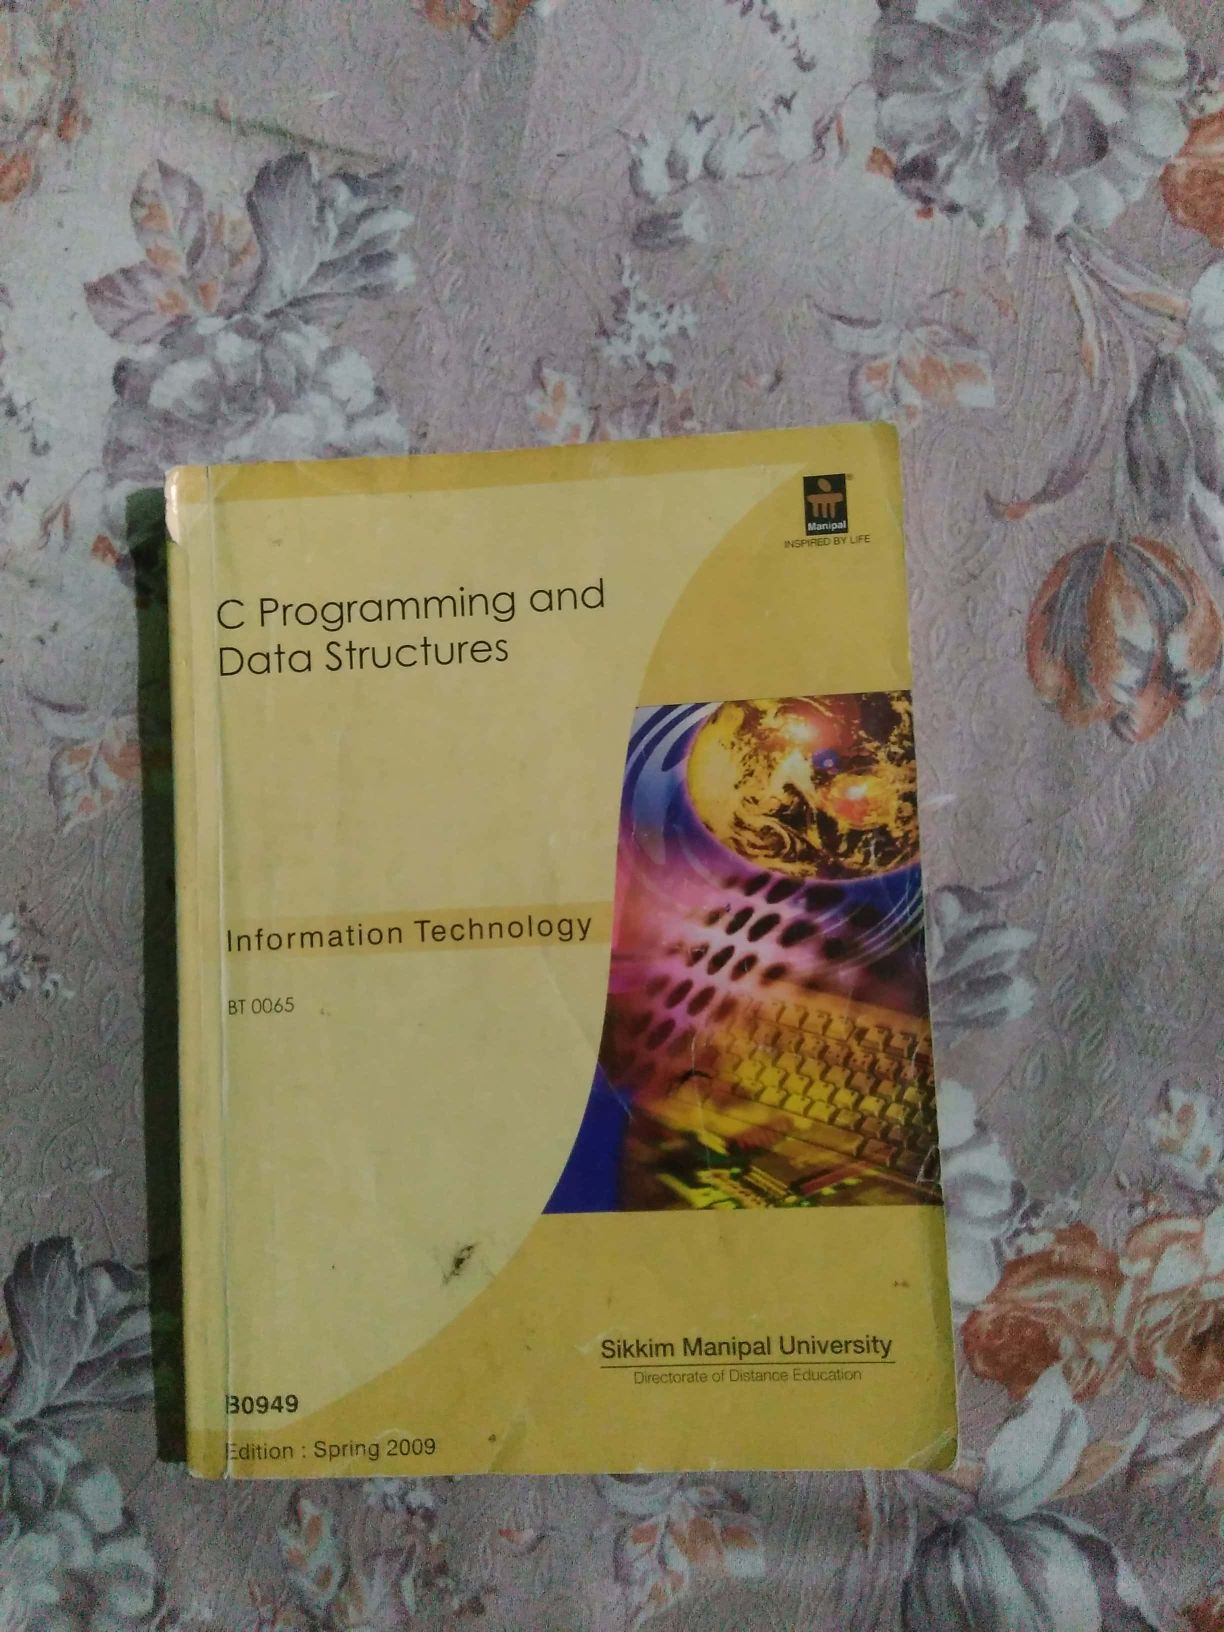clang: (134, 434, 1002, 1512)
